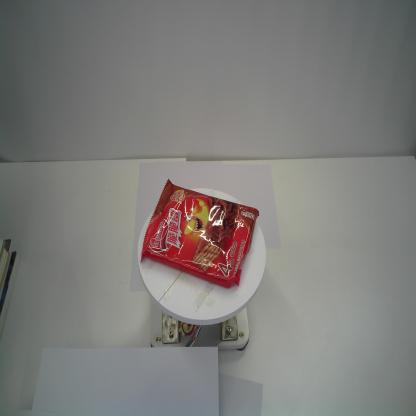Dessert: (140, 178, 260, 289)
